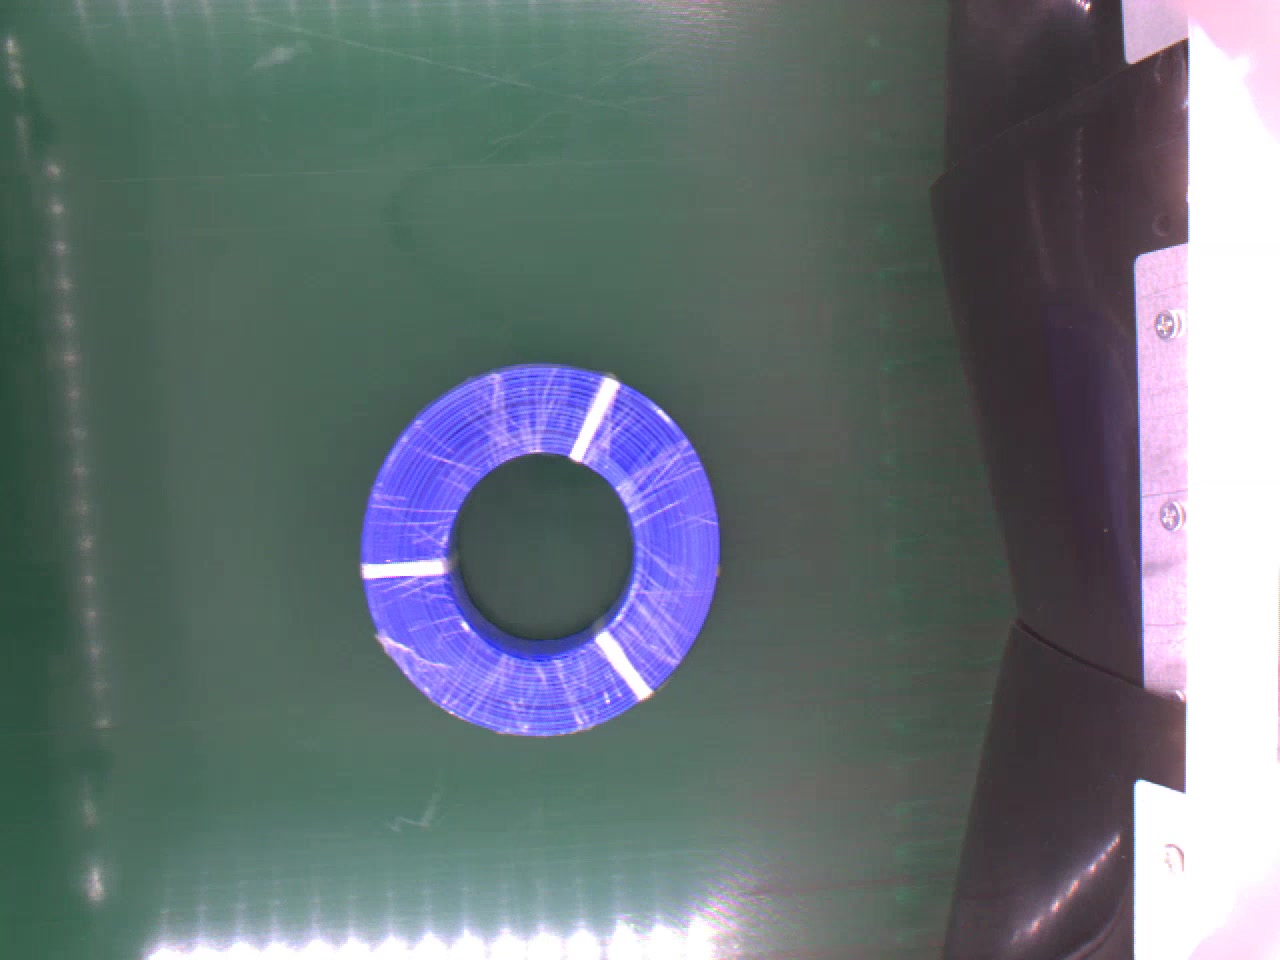blue: (360, 358, 720, 731)
